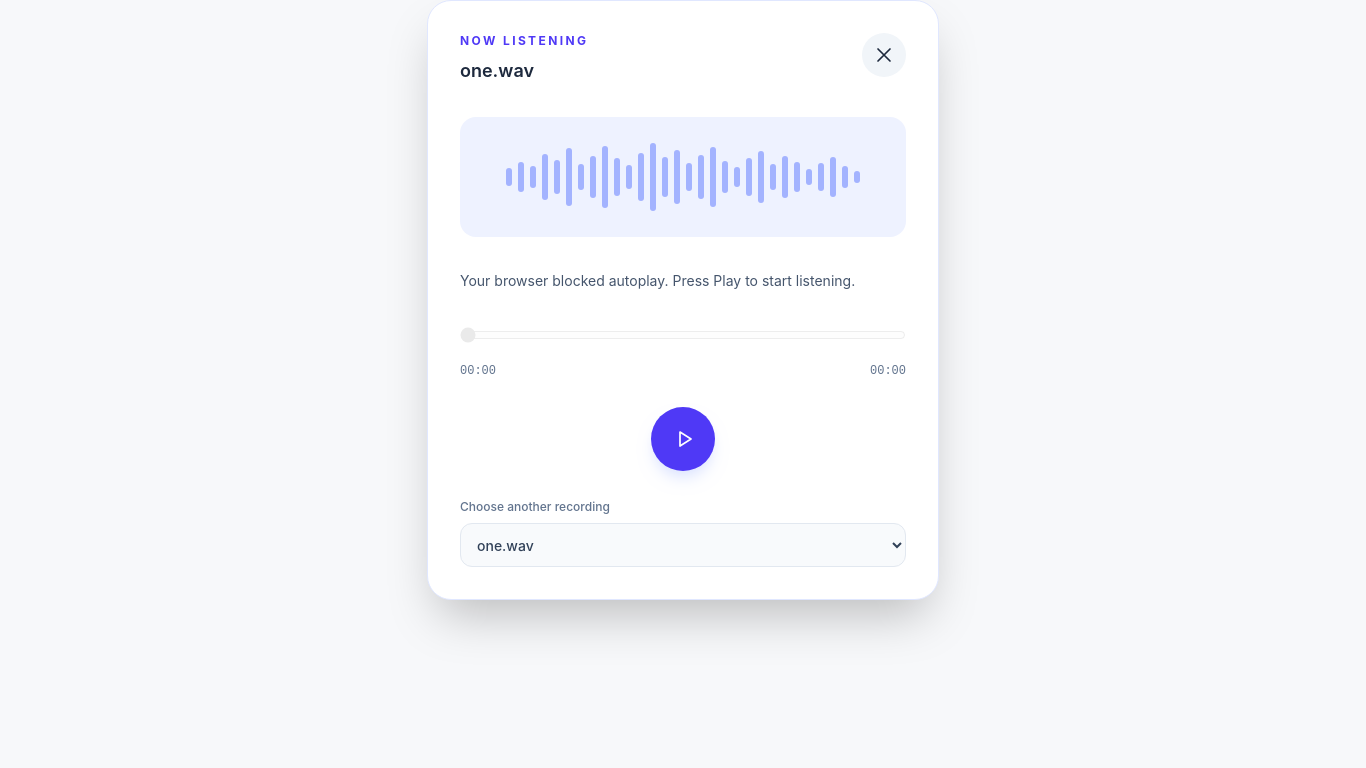
Test case: audio player › offers manual play when autoplay is blocked and allows retry
The width and height of the screenshot is (1366, 768).
Expected: the text "Your browser blocked autoplay. Press Play to start listening." is shown, [460,269,906,293]
Click the button named "Play" at (683, 439), box [651,407,715,471]
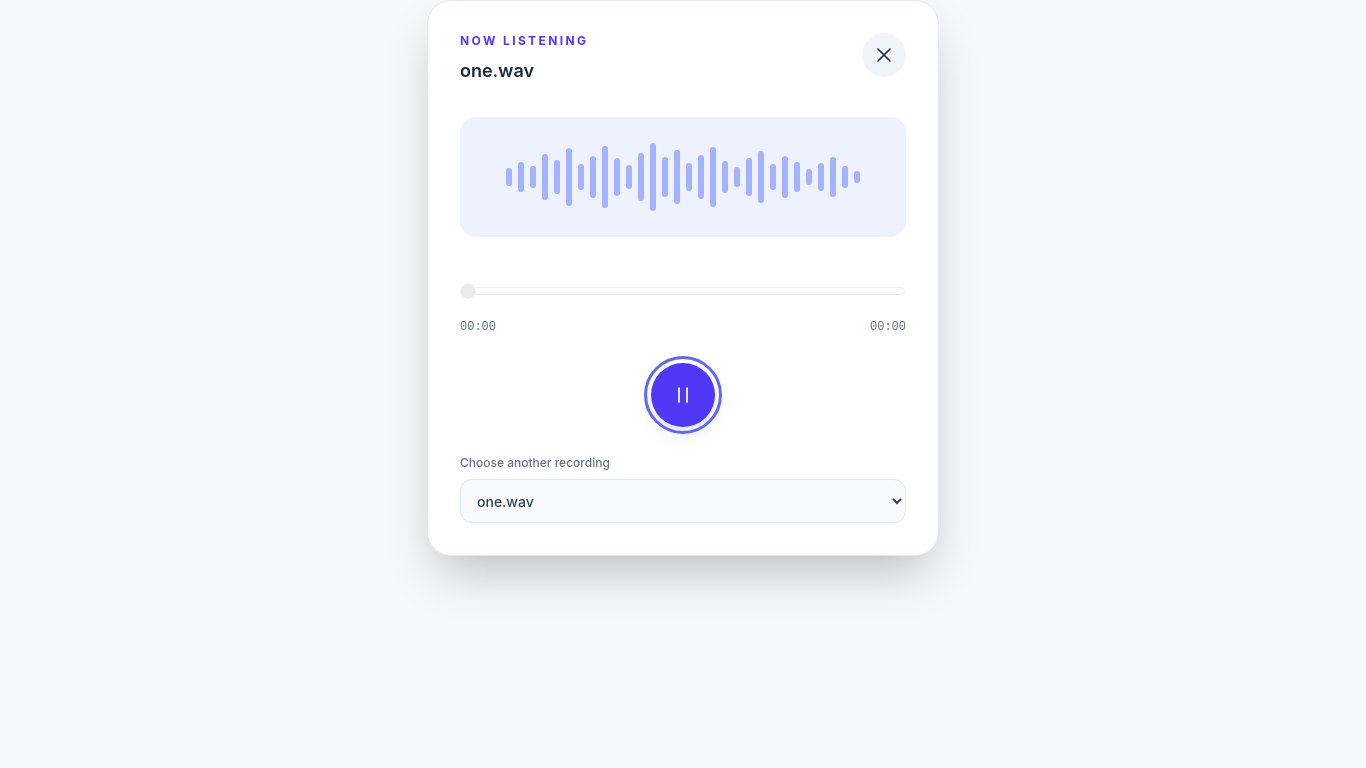
Now the button named "Pause" is shown, box [651,363,715,427]
Now the message "Your browser blocked autoplay. Press Play to start listening." is gone
